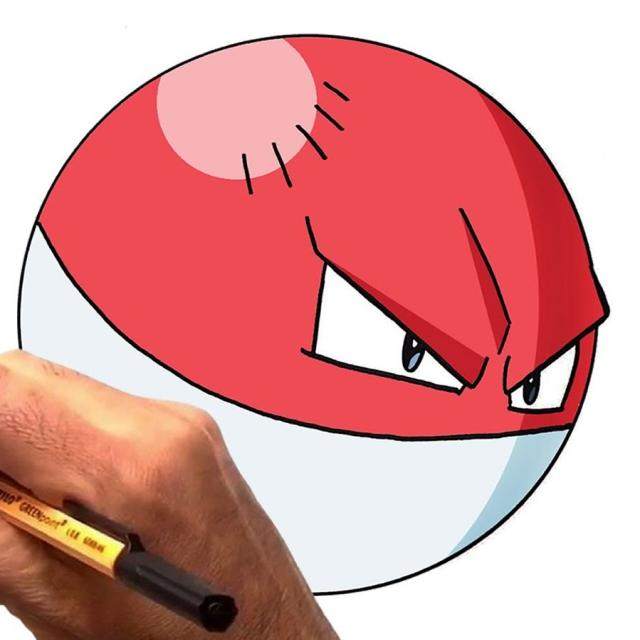Voltorb: (12, 35, 610, 605)
